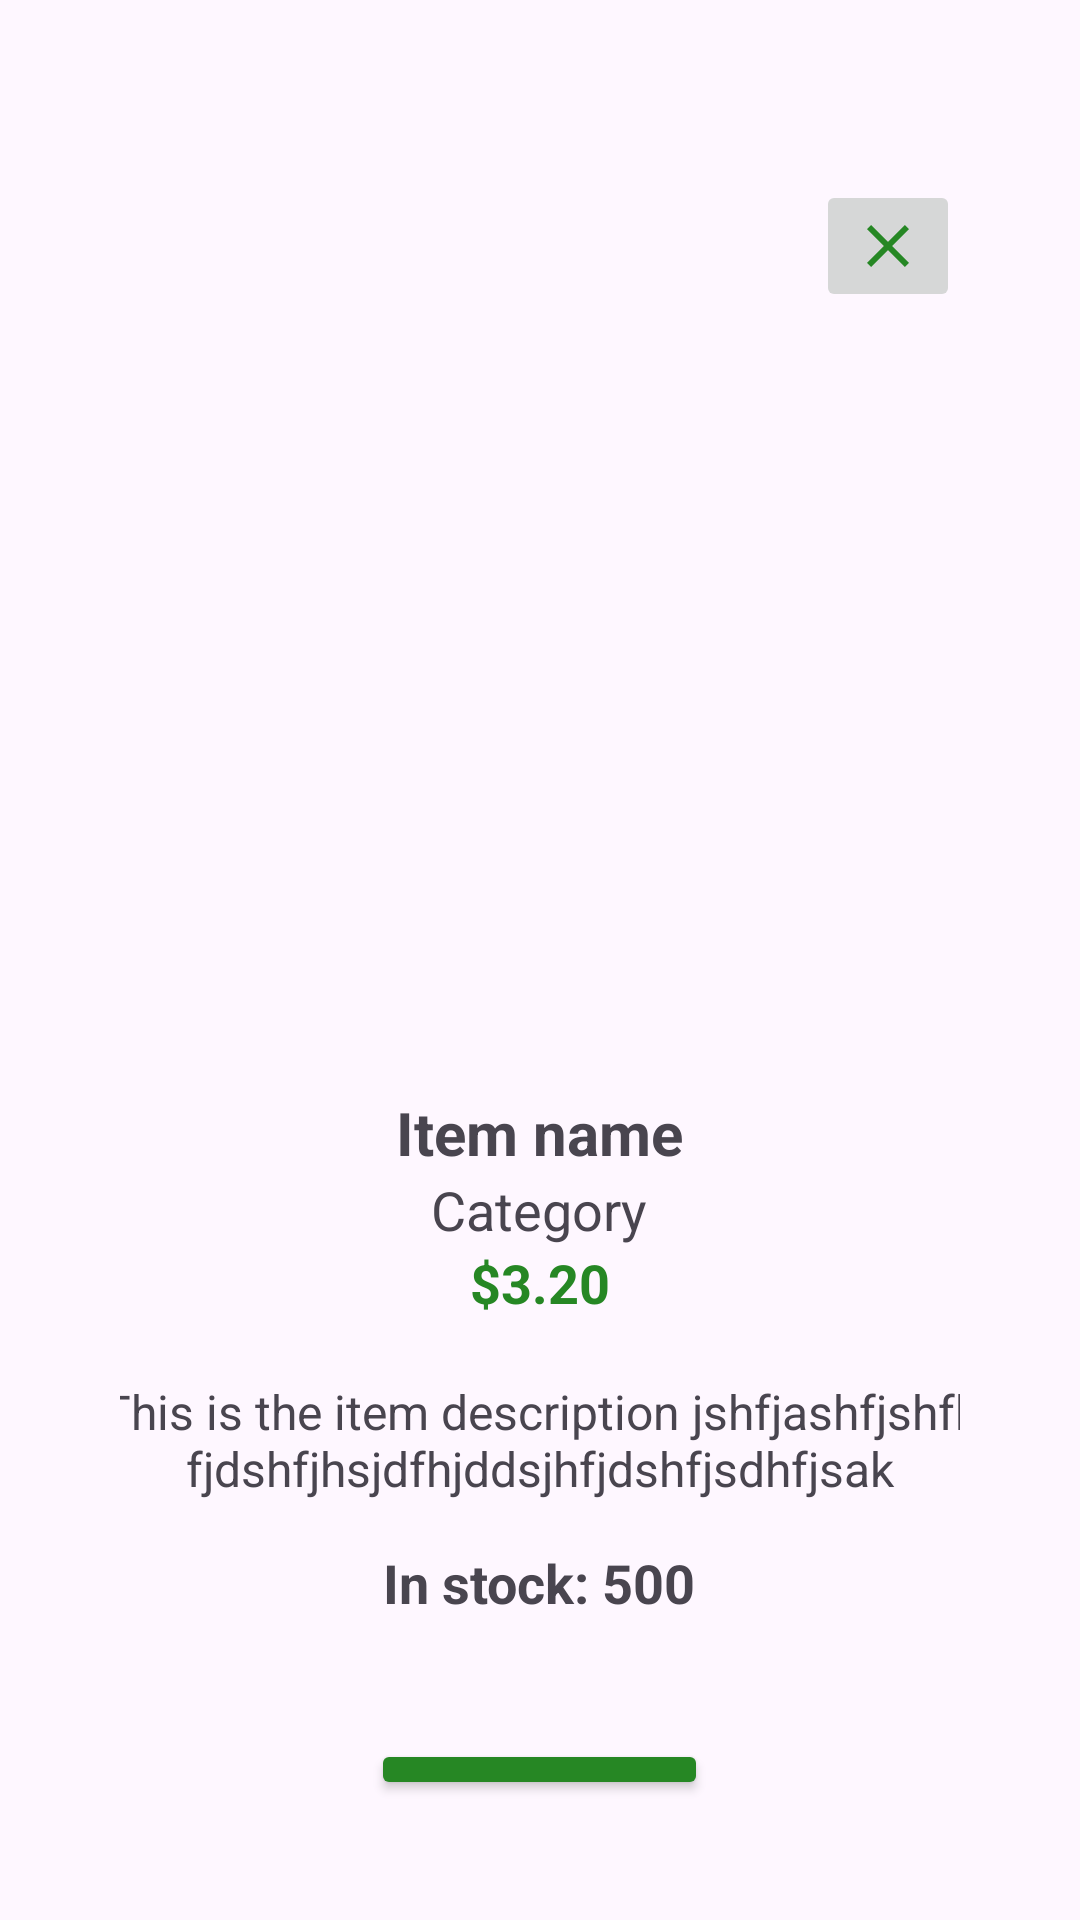

Named icons in this screenshot (1080px x 1920px) and their bounding boxes, region(x1, y1, x2, y2):
close: region(828, 198, 948, 294)
